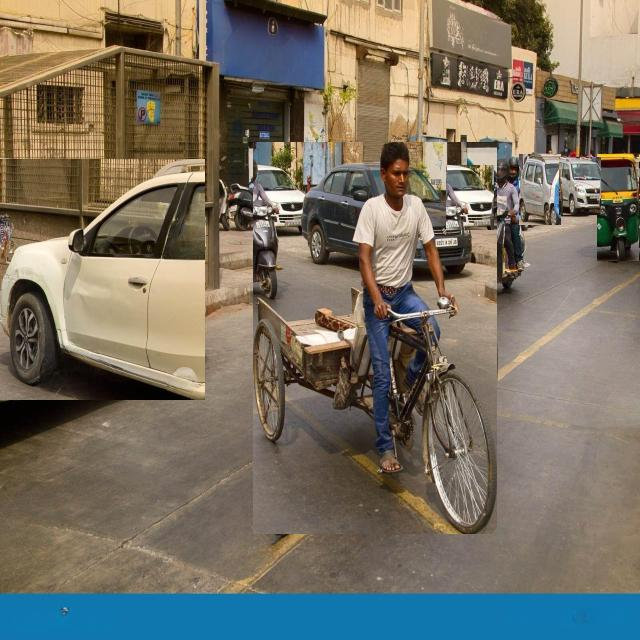autorickshaw: (598, 154, 639, 261)
bicycle: (254, 143, 497, 534)
car: (0, 160, 205, 400), (366, 164, 450, 264), (446, 166, 494, 230), (519, 155, 561, 225), (559, 158, 601, 215)
motorcycle: (471, 156, 531, 300), (228, 169, 279, 230)
